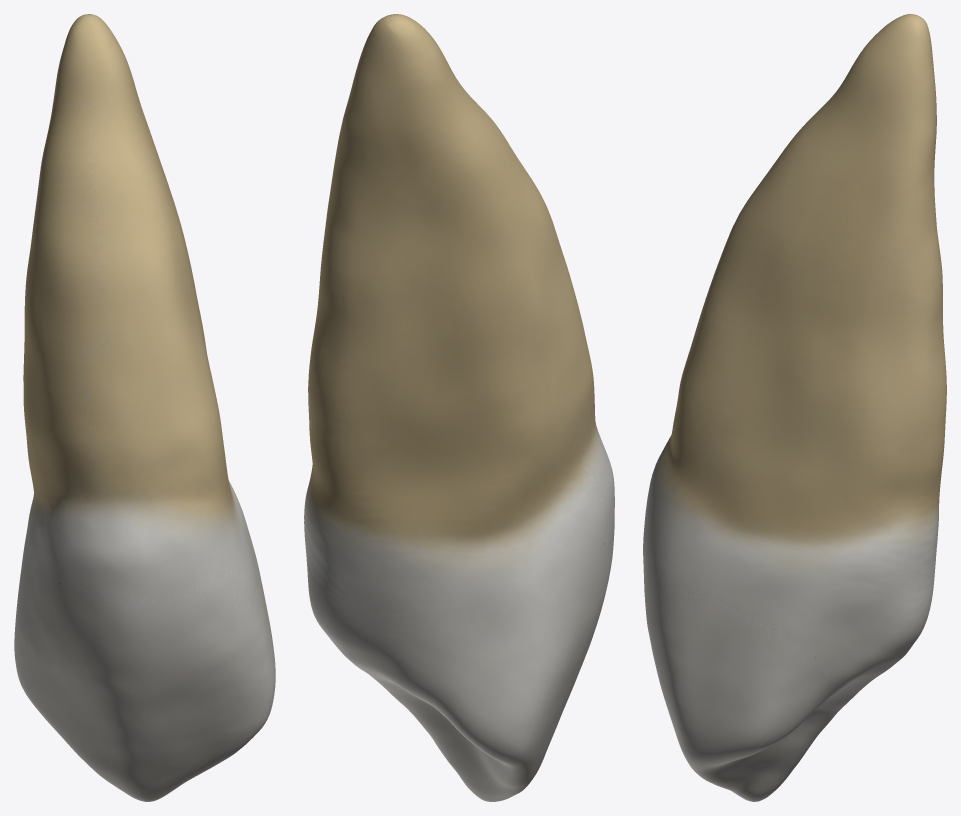
3 renders of one model, left to right at view 1: azimuth 30°, elevation 25°; view 2: azimuth 150°, elevation 25°; view 3: azimuth 270°, elevation 25°, orthographic. The views are drawn at different scales.
Parts seen in each view (by area): view 1: diente-13; view 2: diente-13; view 3: diente-13.
Boxes of the visible parts, x1,y1,x2,y2 form: diente-13: (14,14,275,801); diente-13: (304,14,614,801); diente-13: (643,14,946,801).
Bounding box in the file's own units: 0.00831 × 0.027 × 0.00941.
1 material, 1 textured.
